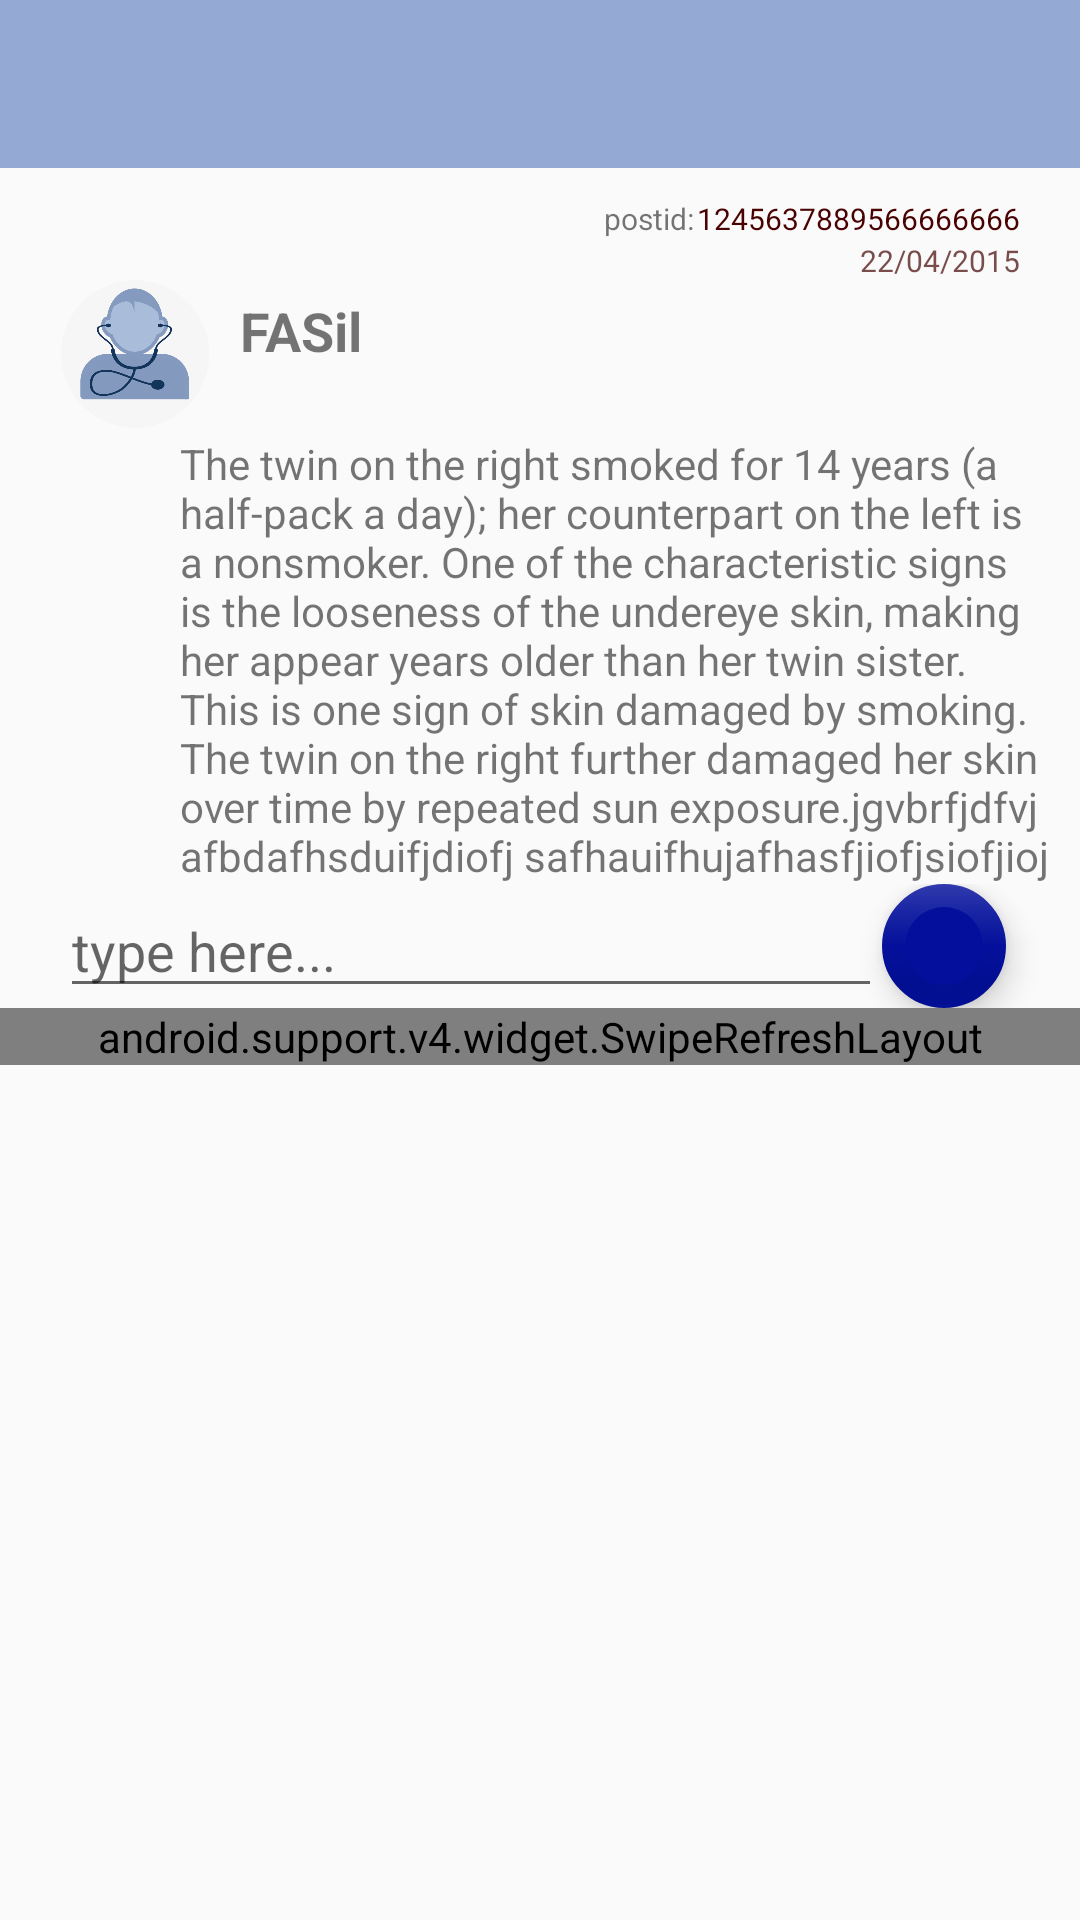

Icons on this 1080px x 1920px Android screen, each with the point to tap as (x=x, y=y):
save doctor: (x=134, y=344)
